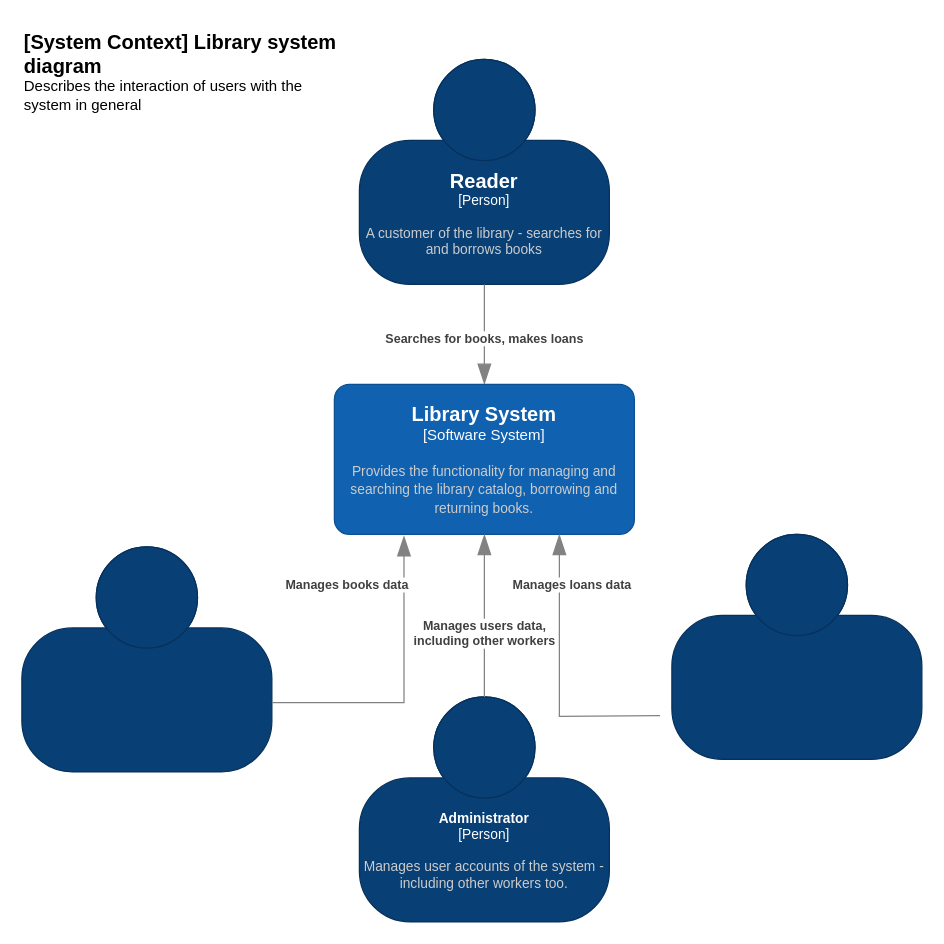
The diagram is 944 pixels wide and 944 high, and some of its shapes have lost their labels. Each missing label, with the centre of its shape:
"Catalogue Manager [Person] Updates the libraries' books catalogue." belongs at pixel 146 659.
"Loans Manager [Person] Manages readers' loans." belongs at pixel 796 646.
